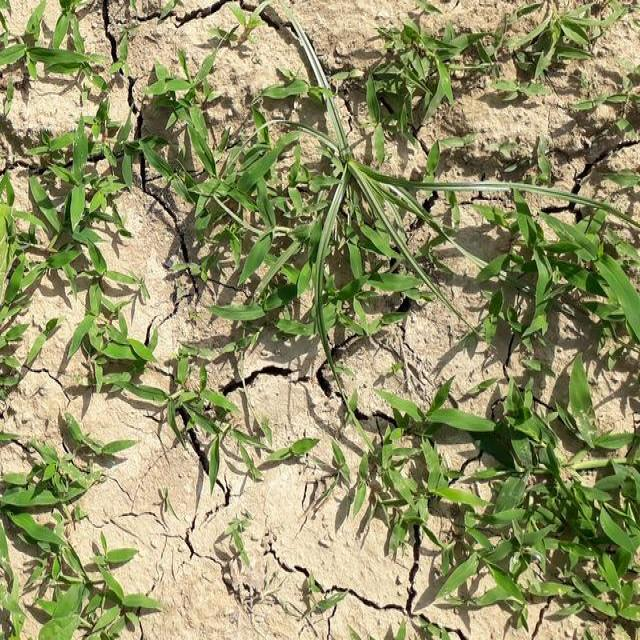weed: (127, 64, 416, 352), (0, 0, 149, 377), (435, 384, 640, 640), (5, 405, 134, 640), (477, 185, 640, 360)
